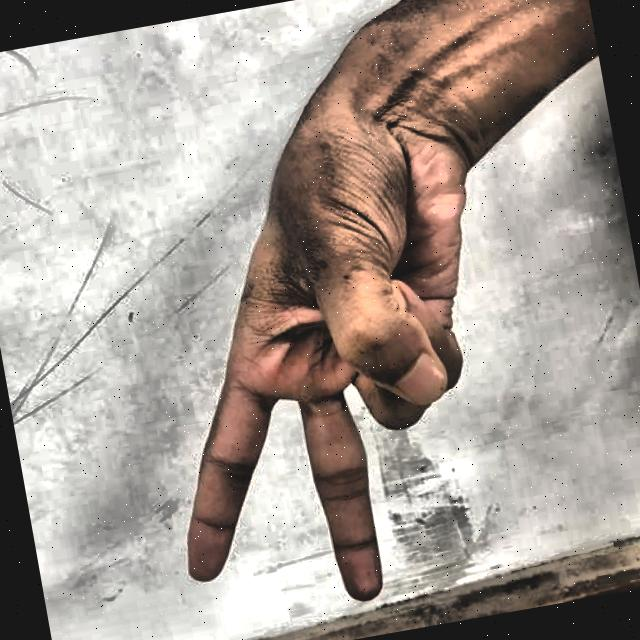Pa: (51, 42, 558, 640)
